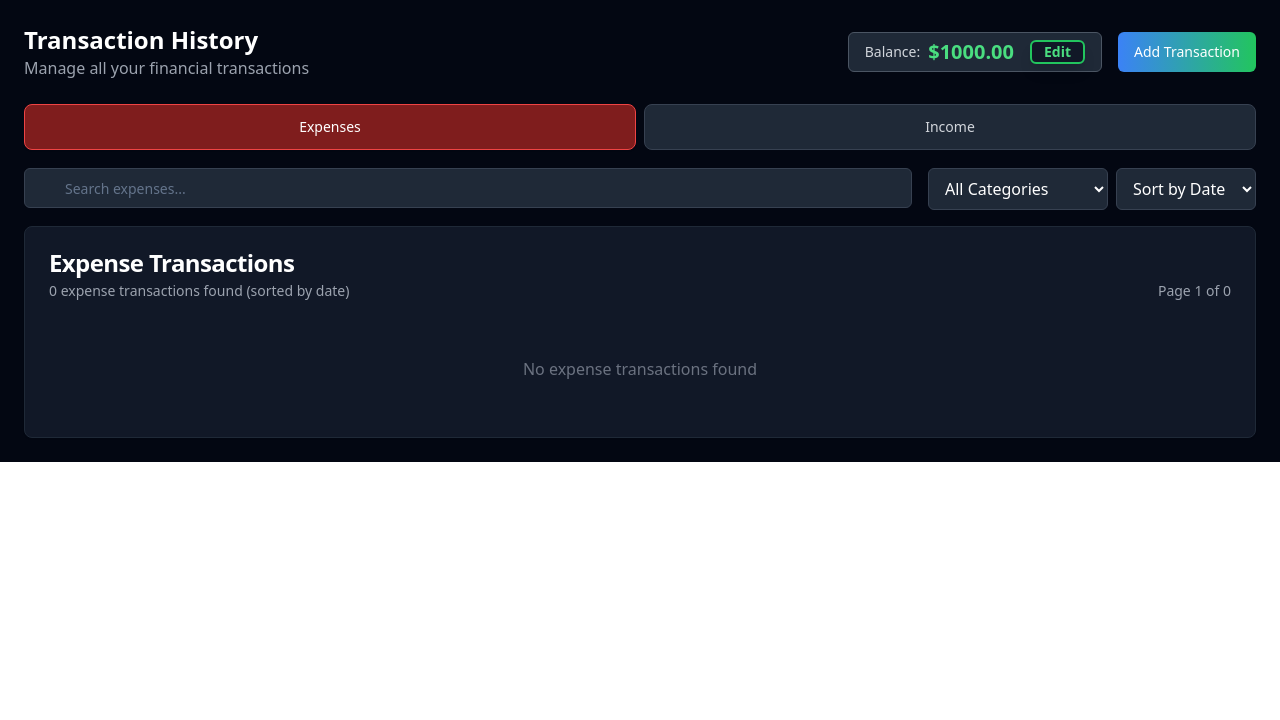
Test case: TransactionsContent Component › Component Rendering › should open dialog when Add Transaction button is clicked
This screenshot has width=1280, height=720.
Expected: the text "Add New Transaction" is not shown
// Find and click the Add Transaction button
Click the button "Add Transaction".
click(1187, 52)  # box [1118, 32, 1256, 72]
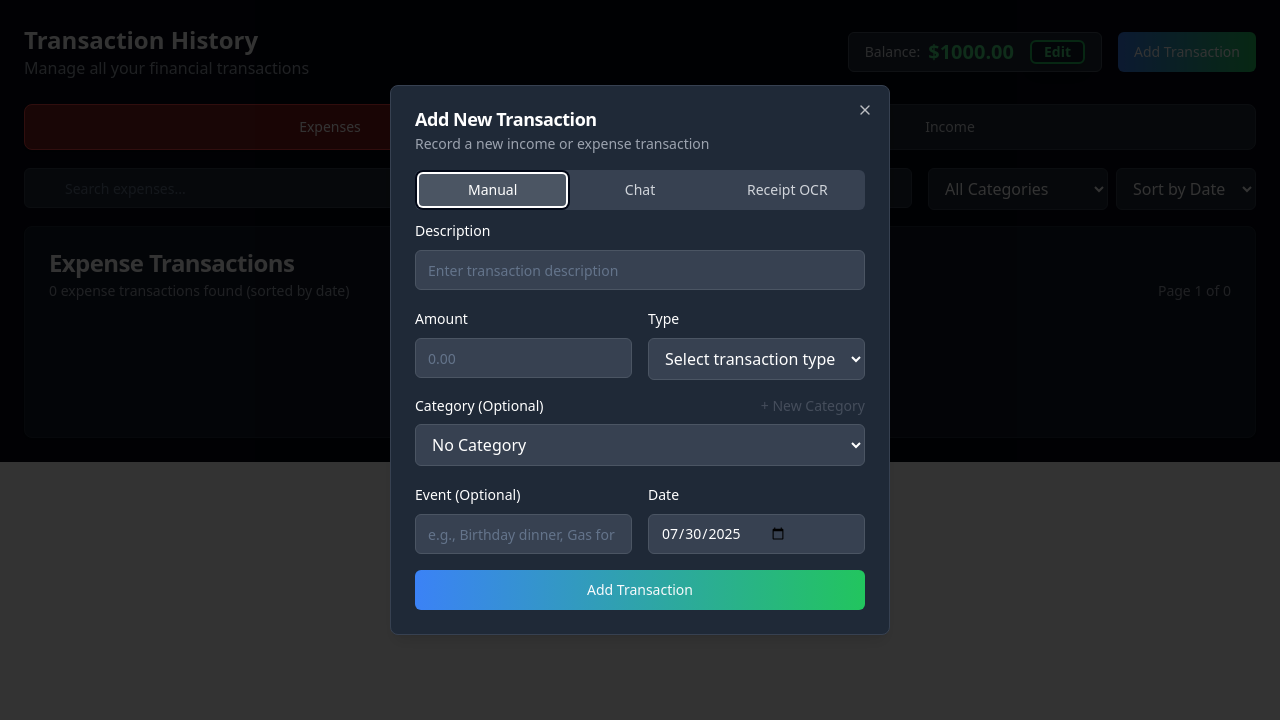
Expected: the heading "Add New Transaction" is shown, [415, 107, 597, 131]
Expected: the text "Record a new income or expense transaction" is shown, [415, 134, 710, 153]
Expected: the tab "Manual" is shown, [419, 174, 566, 206]
